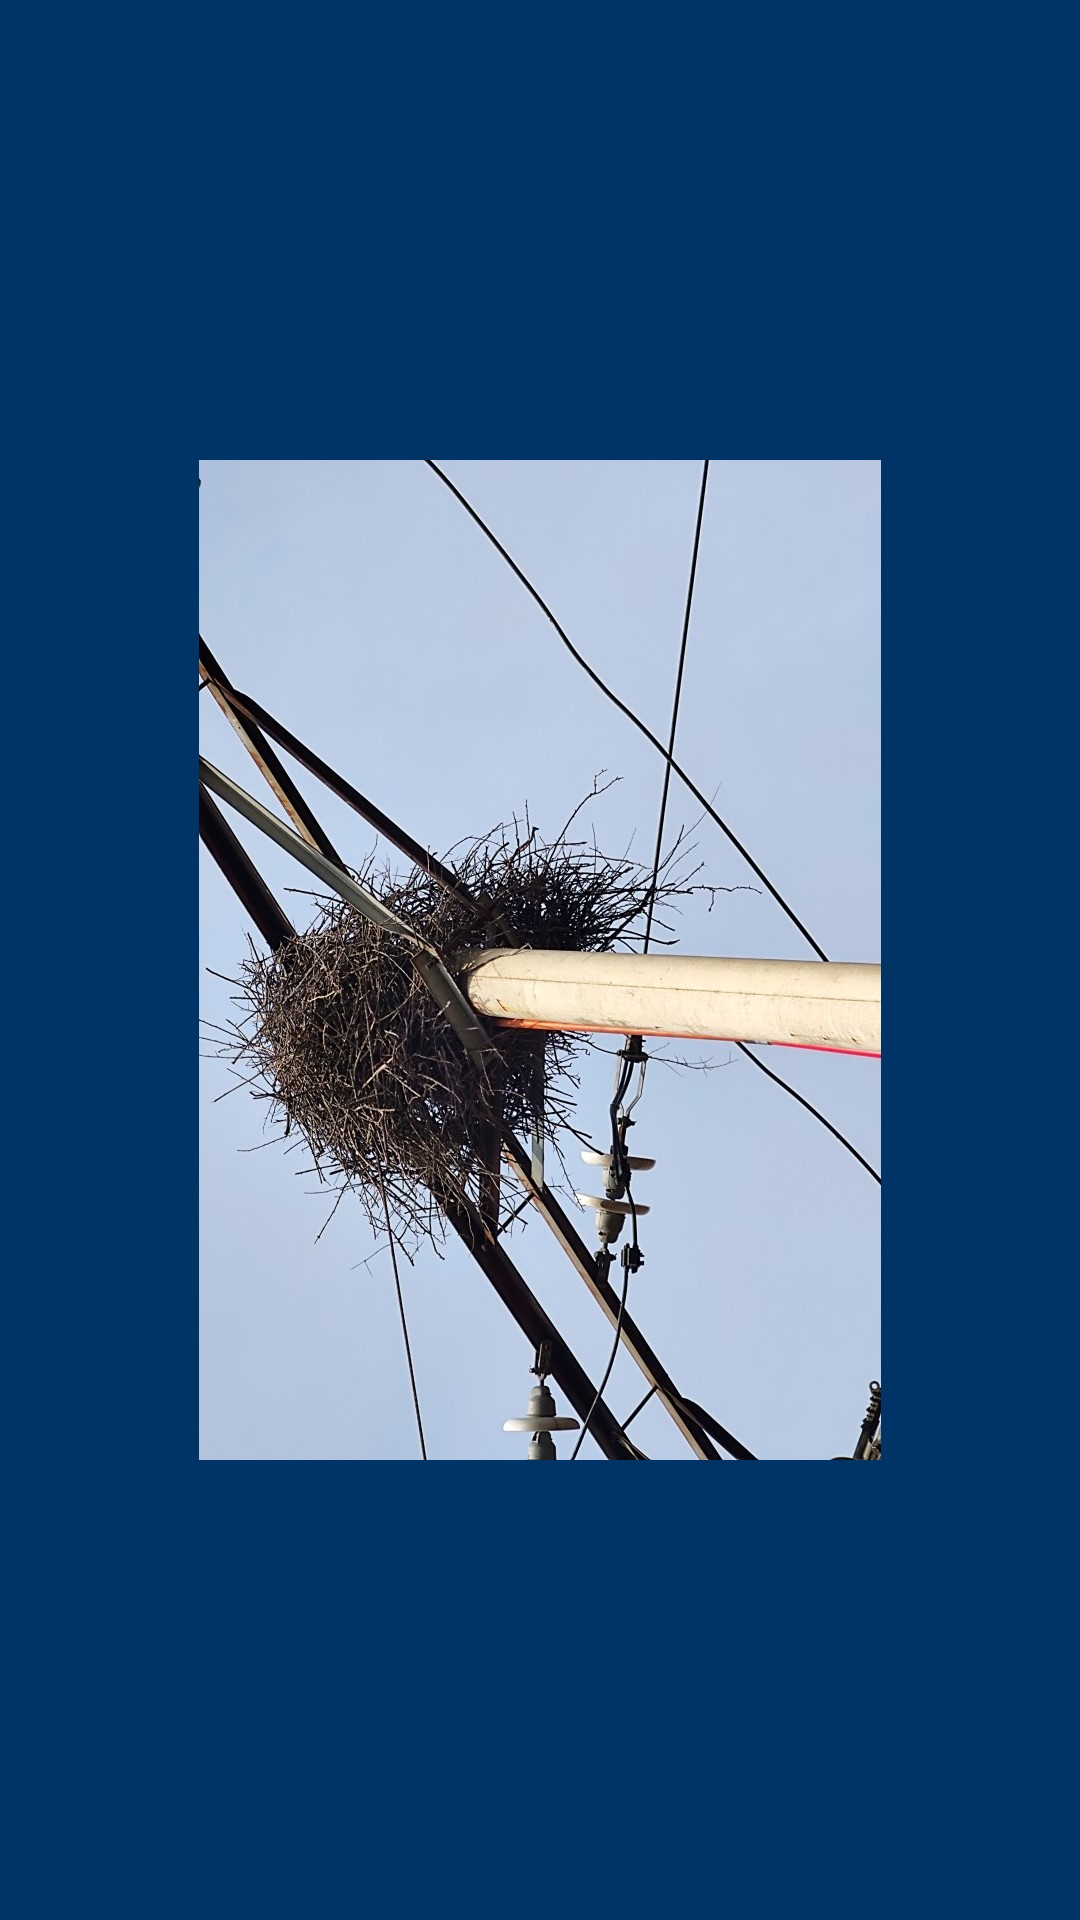niaowo: (206, 795, 625, 1221)
